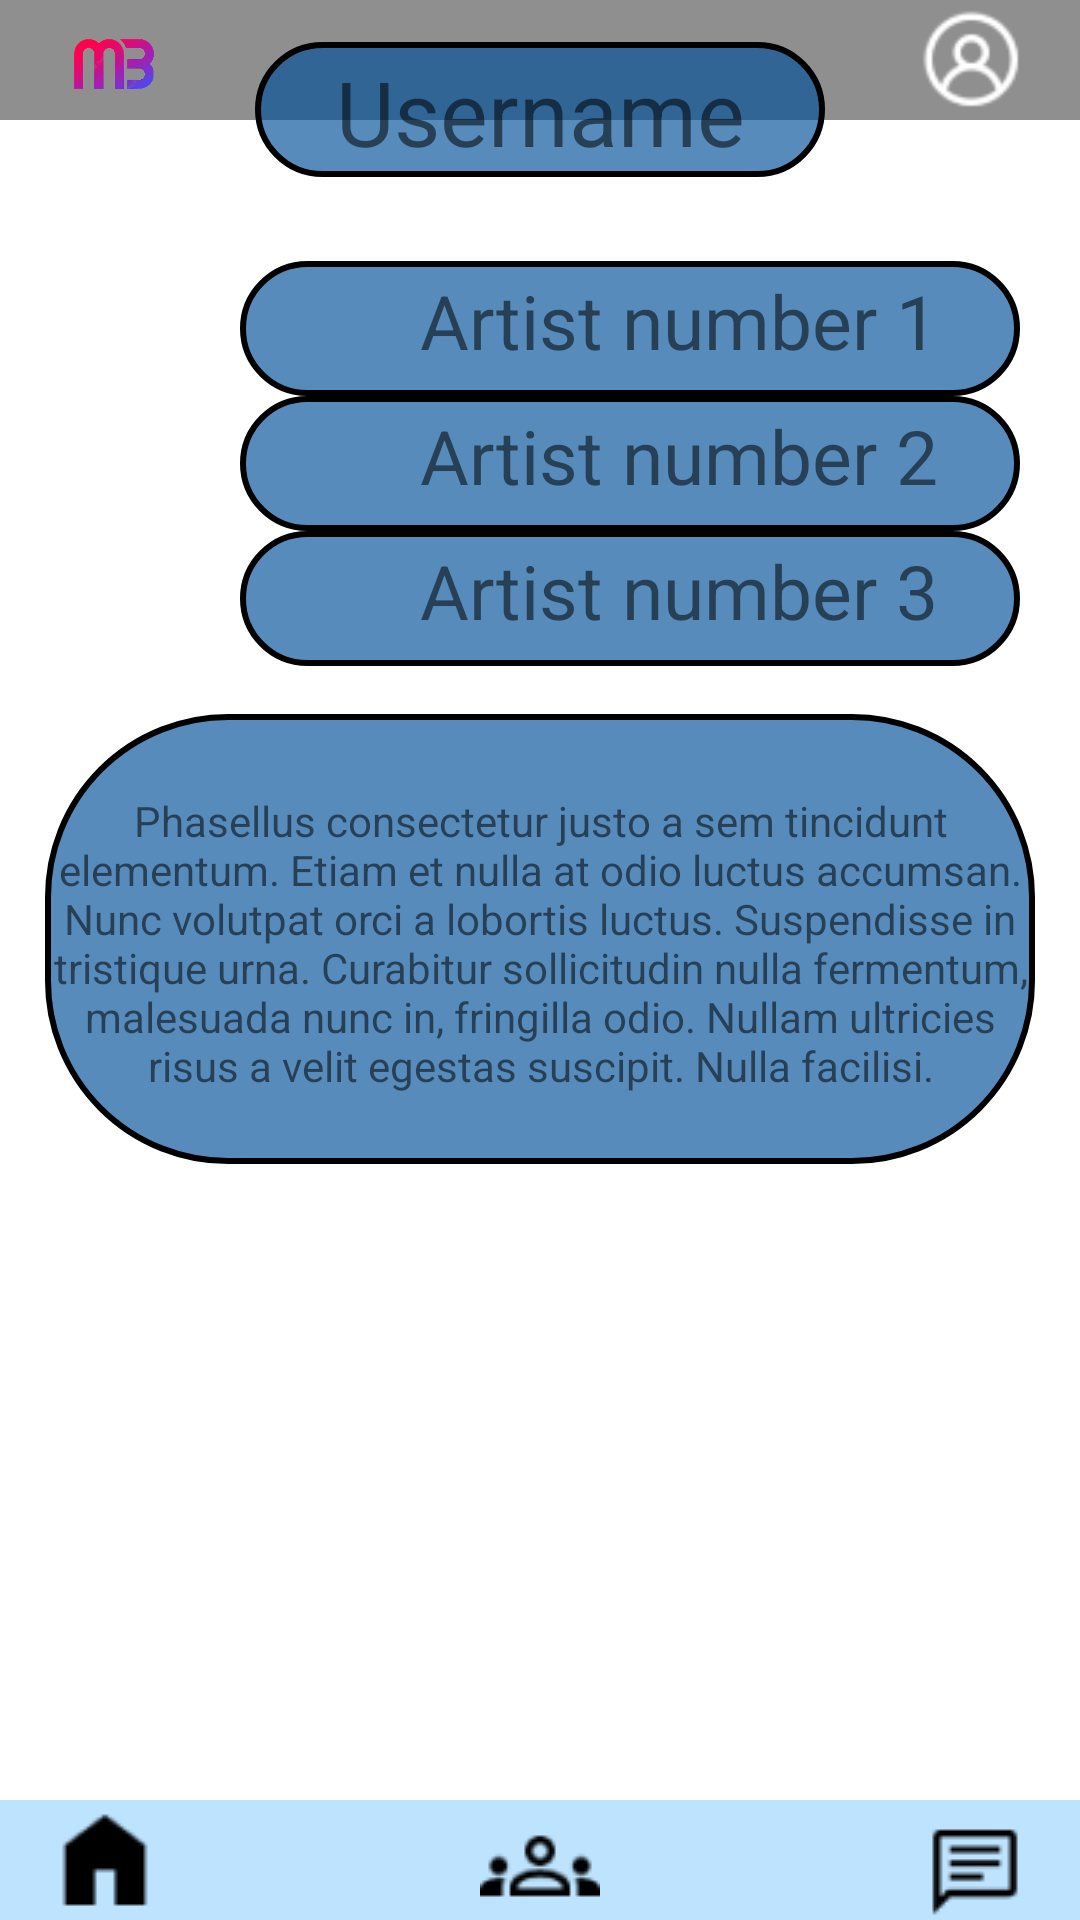

Point at icon controls on the screen. Image size 1080×1920, points as [x,y].
chaticon: [975,1872]
friendsicon: [540,1866]
profileicon: [971,59]
selectedhomeicon: [105,1860]
